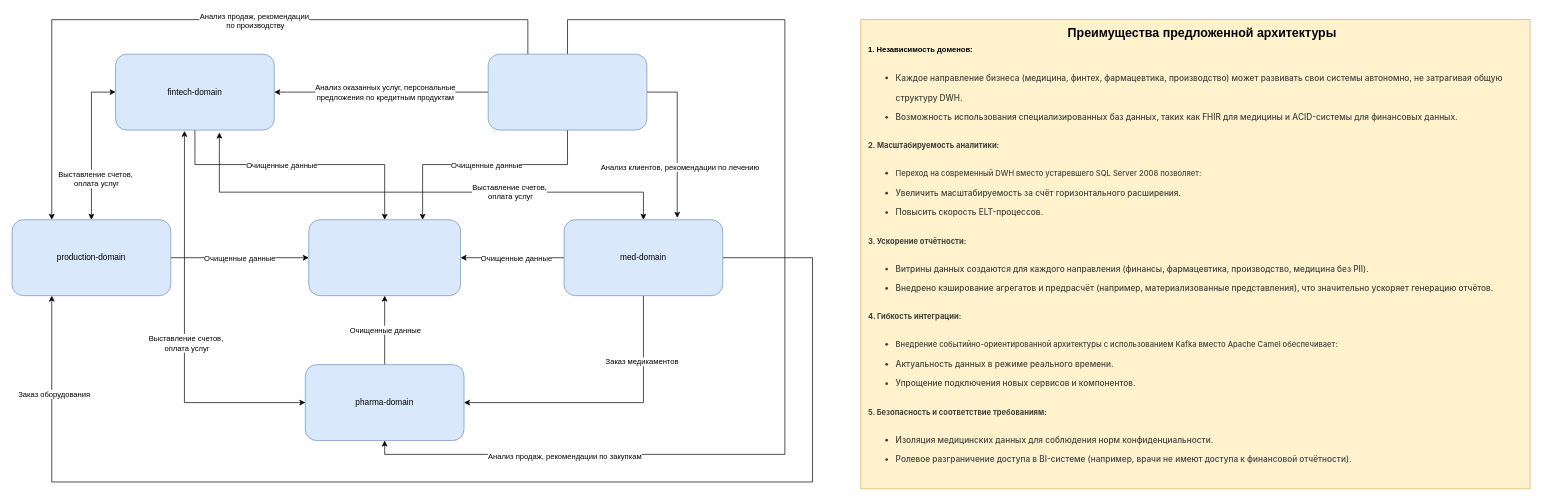
This 1549x501 diagram has some shape labels left out. The shapes that lost their labels are listed below. From the top down, each one's centre as x and y in pixels, then its label:
At [567,91]: "ai-domain".
At [384,257]: "DWH".
